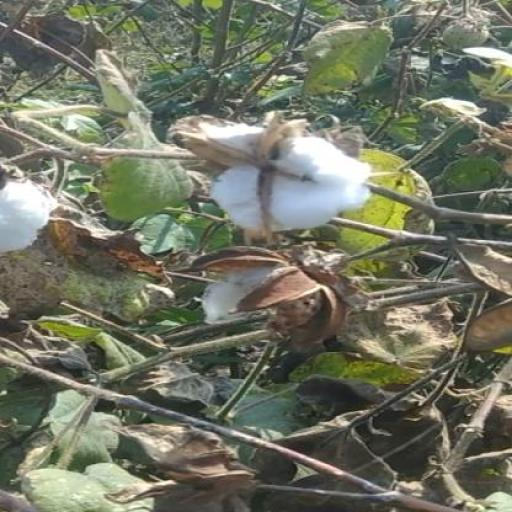cotton_ready: (160, 113, 394, 250)
